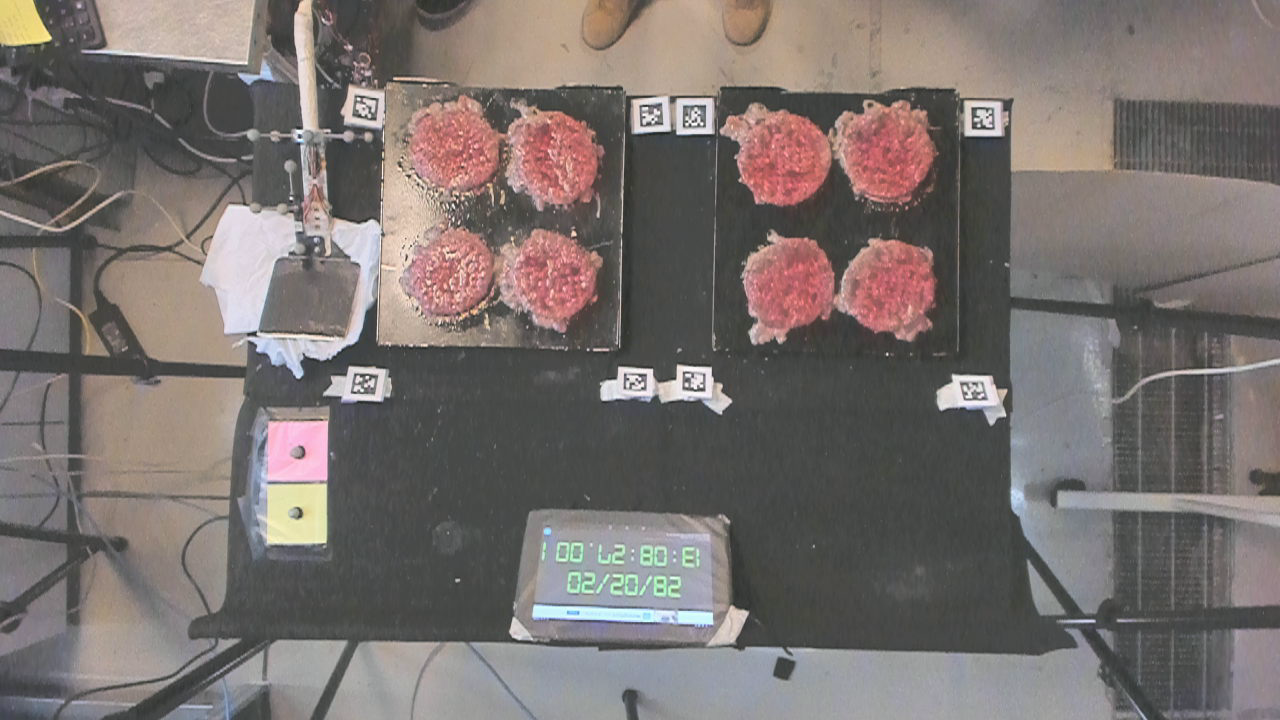hamburger: (739, 106, 830, 216), (841, 103, 939, 205), (401, 220, 494, 319), (504, 220, 597, 319), (847, 238, 935, 335), (743, 240, 835, 331), (508, 111, 597, 203), (406, 105, 497, 192)
marker: (265, 420, 328, 484)
